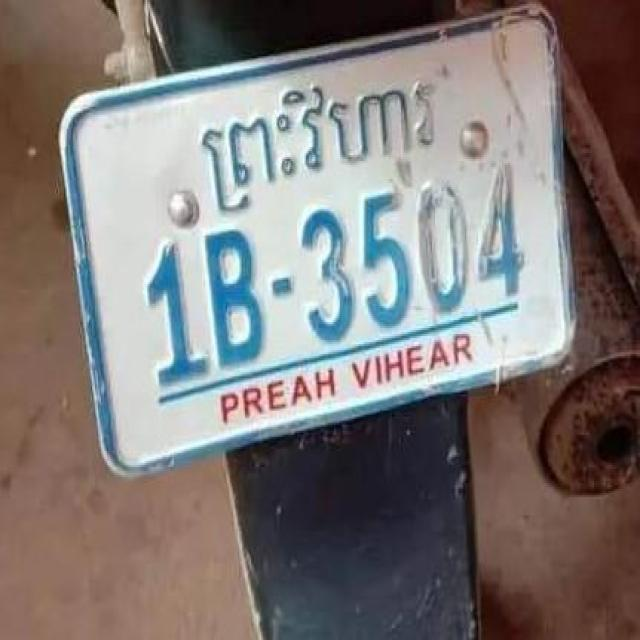Preah_Vihear: (198, 77, 443, 215)
